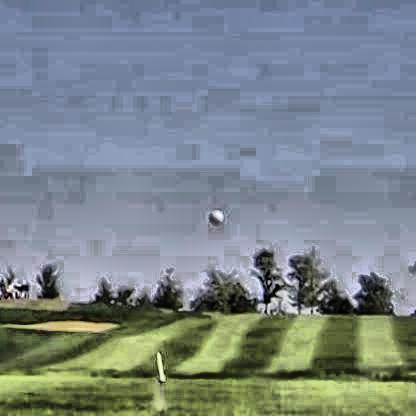golfball: (206, 206, 221, 223)
